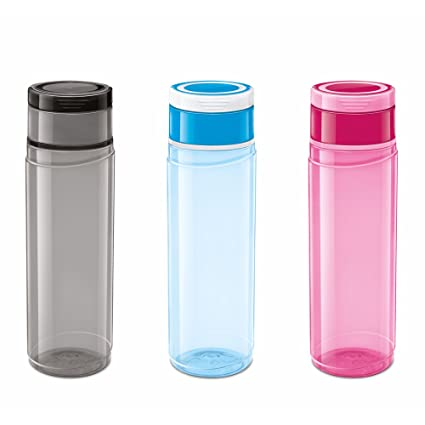PlasticBottle: (23, 79, 128, 378), (163, 77, 261, 382), (305, 76, 403, 379)
